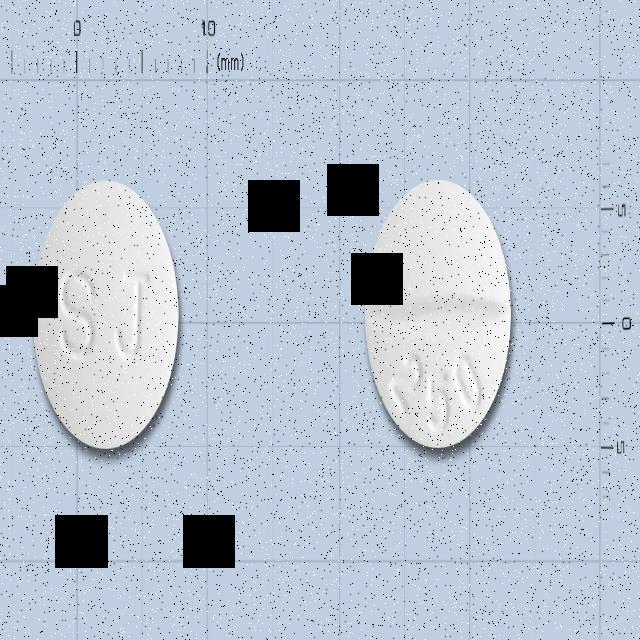Quinos Tab: (33, 179, 180, 453), (365, 178, 513, 450)
